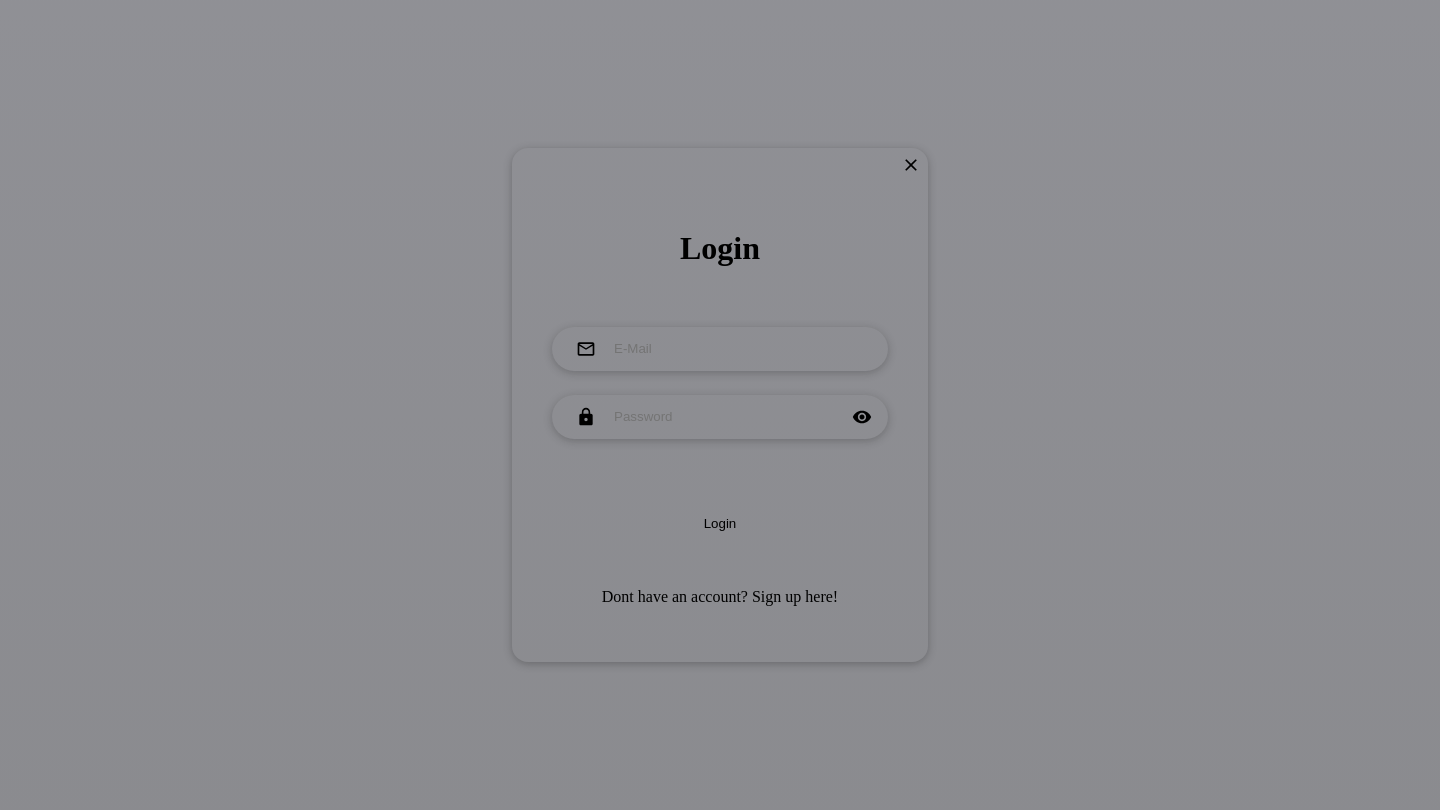
Test: <ManageAccount /> › renders LoginModal component when register
The image size is (1440, 810).
Step 1. Click the text "Sign up here!" → (795, 597), box [752,588,838,606]
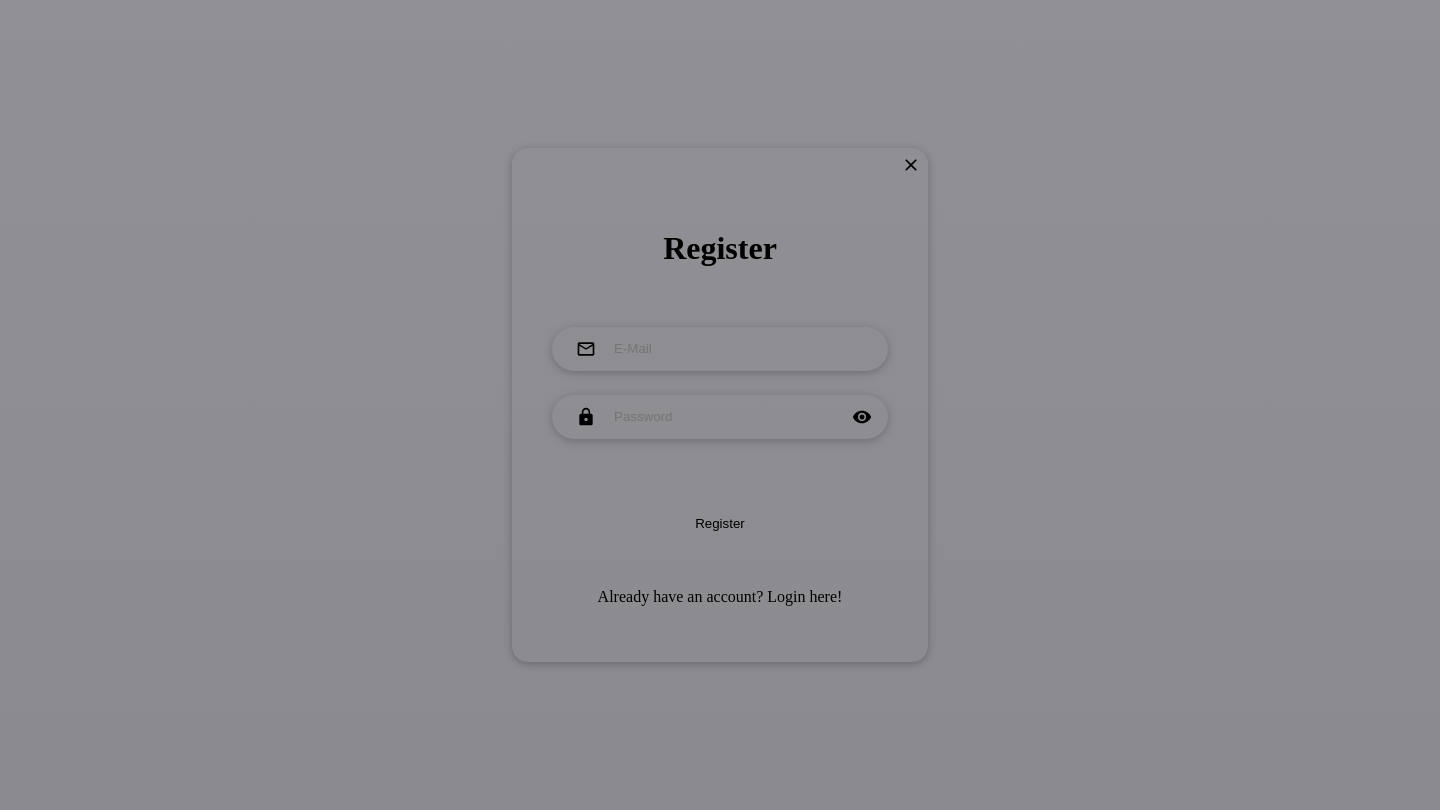
Expected: the heading "Register" is shown, [663,230,777,267]
Expected: the text "Register" is shown, [695,516,745,531]
Expected: the text "Already have an account? Login here!" is shown, [598,588,842,606]
